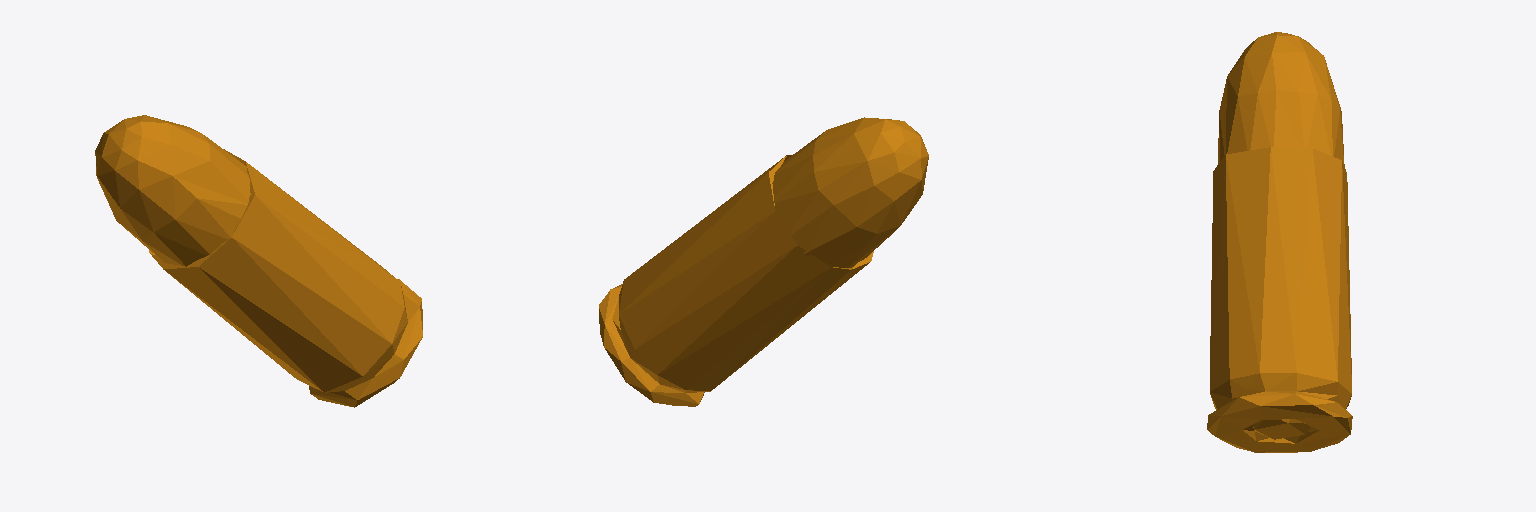
File: bullet.obj
The picture shows the model from 3 angles: view 1: azimuth 30°, elevation 25°; view 2: azimuth 150°, elevation 25°; view 3: azimuth 270°, elevation 25°; orthographic projection.
Parts seen in each view (by area): view 1: Bullet_Untitled; view 2: Bullet_Untitled; view 3: Bullet_Untitled.
Boxes of the visible parts, x1,y1,x2,y2 form: Bullet_Untitled: [95, 115, 422, 407]; Bullet_Untitled: [599, 117, 928, 406]; Bullet_Untitled: [1207, 32, 1352, 452].
Size of the model in its own units: 0.2393 by 0.2399 by 0.0965.